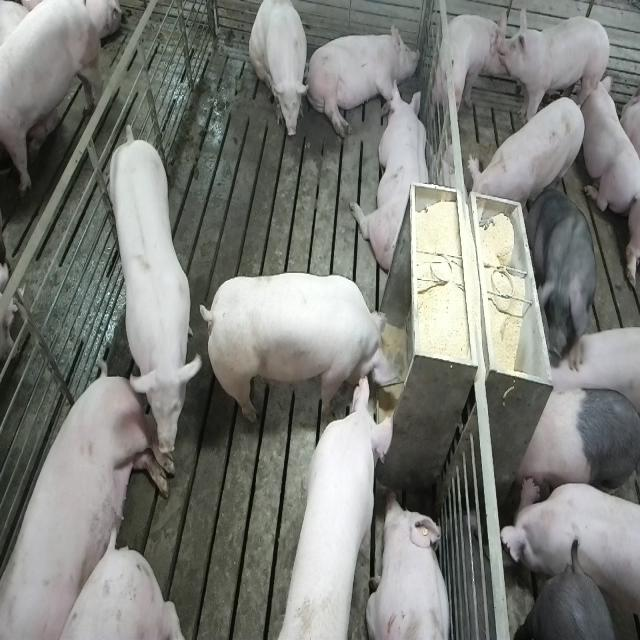Feeding: (200, 278, 404, 433), (276, 366, 394, 633)
Lateral_lying: (306, 20, 420, 142)
Sitting: (249, 0, 309, 143)
Standing: (103, 125, 200, 415), (0, 0, 113, 198), (499, 478, 637, 639), (515, 384, 638, 506), (471, 96, 589, 220), (497, 17, 614, 136), (529, 187, 598, 360), (546, 322, 637, 428), (514, 562, 626, 638), (437, 13, 507, 128)
Sternal_lying: (353, 80, 432, 274), (368, 493, 456, 640), (580, 71, 637, 219)
